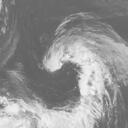cyclone: (42, 32, 110, 87)
